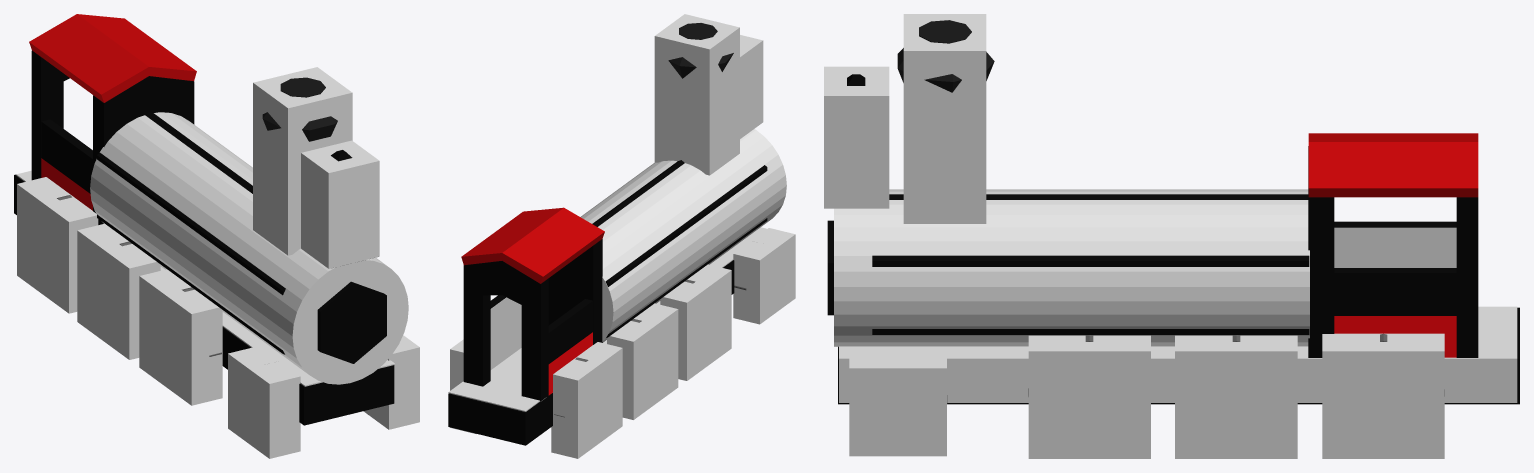
File: trainengine-test.glb
3 renders of one model, left to right at view 1: azimuth 30°, elevation 25°; view 2: azimuth 150°, elevation 25°; view 3: azimuth 270°, elevation 25°, orthographic. The views are drawn at different scales.
Parts seen in each view (by area): view 1: Engine-cylcol, Exhaust-rectcol, WheelR2-rectcol, Lantern-rectcol, TopCab, TrainEngine, WheelR3-rectcol, WheelR4-rectcol, WheelR1-rectcol, Trainbase, FrontCab, CabSideR (+4 smaller); view 2: Engine-cylcol, Exhaust-rectcol, BackCab, WheelR4-rectcol, TopCab, WheelR3-rectcol, WheelR2-rectcol, WheelR1-rectcol, Trainbase, FrontCab, Trainbase-rectcol, TrainEngine (+5 smaller); view 3: Engine-cylcol, Exhaust-rectcol, WheelL4-rectcol, WheelL3-rectcol, WheelL2-rectcol, Trainbase-rectcol, TopCab, TrainEngine, WheelL1-rectcol, Lantern-rectcol, CabSideL, CabRight-rectcol (+5 smaller).
Boxes of the visible parts, x1,y1,x2,y2 form: Engine-cylcol: [90, 112, 408, 384]; Exhaust-rectcol: [253, 67, 352, 255]; WheelR2-rectcol: [139, 269, 222, 405]; Lantern-rectcol: [301, 140, 379, 268]; TopCab: [29, 14, 196, 102]; TrainEngine: [97, 111, 386, 363]; WheelR3-rectcol: [77, 223, 160, 359]; WheelR4-rectcol: [17, 177, 98, 313]; WheelR1-rectcol: [228, 346, 300, 458]; Trainbase: [14, 174, 394, 425]; FrontCab: [93, 76, 194, 224]; CabSideR: [41, 119, 92, 210]; Engine-cylcol: [580, 129, 786, 342]; Exhaust-rectcol: [654, 14, 739, 175]; BackCab: [463, 261, 548, 401]; WheelR4-rectcol: [551, 342, 622, 458]; TopCab: [461, 207, 604, 283]; WheelR3-rectcol: [607, 303, 678, 419]; WheelR2-rectcol: [660, 264, 731, 380]; WheelR1-rectcol: [733, 228, 795, 324]; Trainbase: [448, 260, 734, 445]; FrontCab: [548, 239, 602, 344]; Trainbase-rectcol: [448, 227, 766, 411]; TrainEngine: [592, 160, 767, 337]; Engine-cylcol: [834, 189, 1309, 346]; Exhaust-rectcol: [903, 14, 986, 223]; WheelL4-rectcol: [1322, 333, 1444, 458]; WheelL3-rectcol: [1175, 335, 1297, 458]; WheelL2-rectcol: [1028, 335, 1150, 458]; Trainbase-rectcol: [839, 306, 1517, 402]; TopCab: [1308, 133, 1478, 197]; TrainEngine: [827, 194, 1309, 334]; WheelL1-rectcol: [849, 350, 946, 456]; Lantern-rectcol: [824, 66, 889, 208]; CabSideL: [1334, 268, 1456, 357]; CabRight-rectcol: [1334, 227, 1456, 267].
Size of the model in its own units: 3.37 by 6.95 by 11.36.
Materials: 7 (4 with a texture image).
